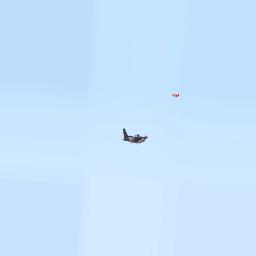Airplane: (120, 129, 149, 143)
